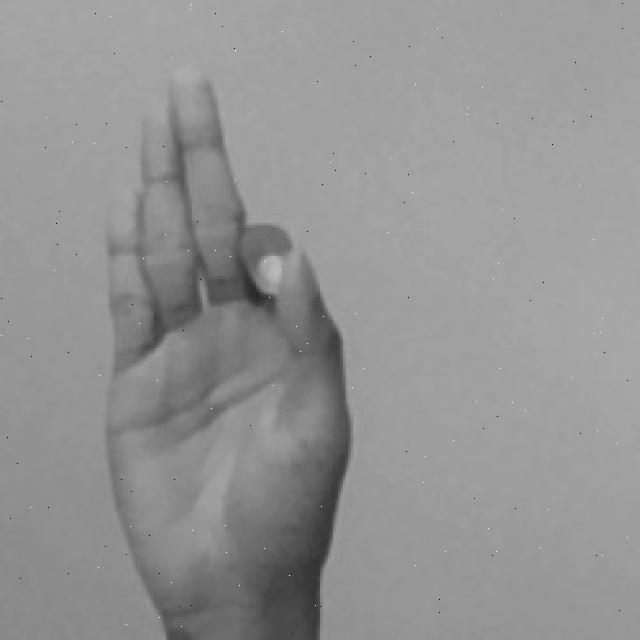F: (100, 64, 355, 640)
